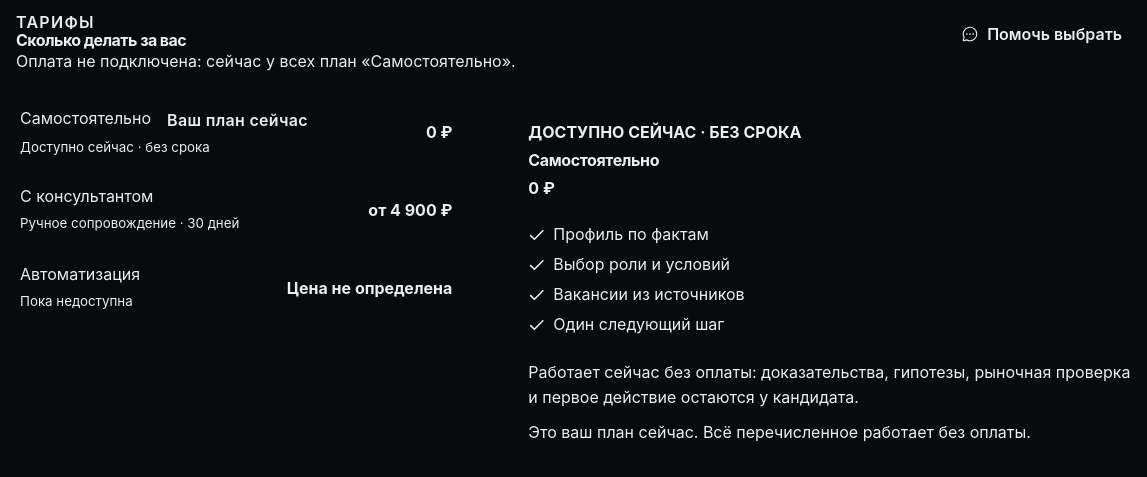
CareerTariffsView · заявка на план с консультантом › says the request did not go through when the server fails
This screenshot has width=1147, height=477.
Click the button "С консультантом от 4 900 ₽ Ручное сопровождение · 30 дней" at (87, 196), box left=16, top=172, right=456, bottom=250
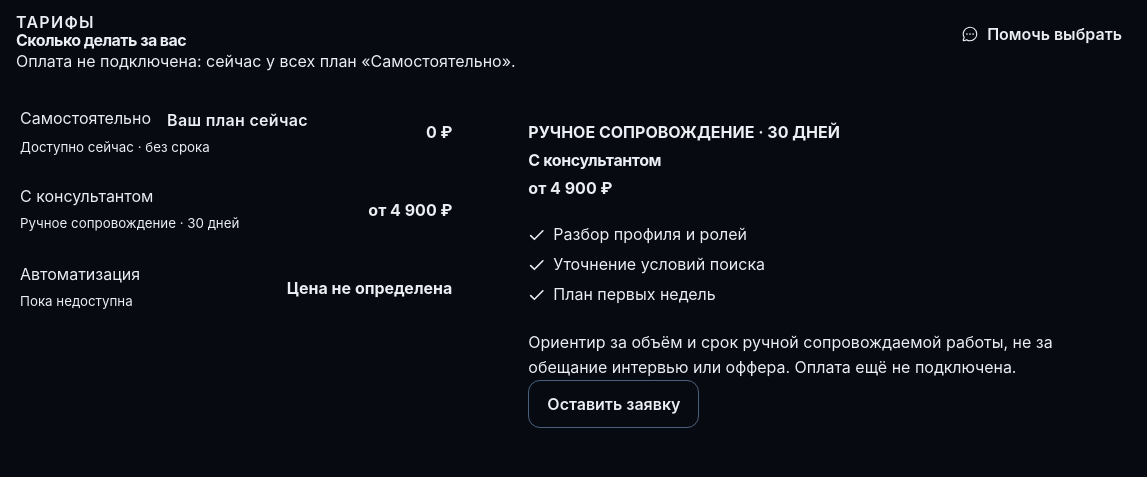
Click the button "Оставить заявку" at (614, 404), box left=528, top=380, right=700, bottom=428
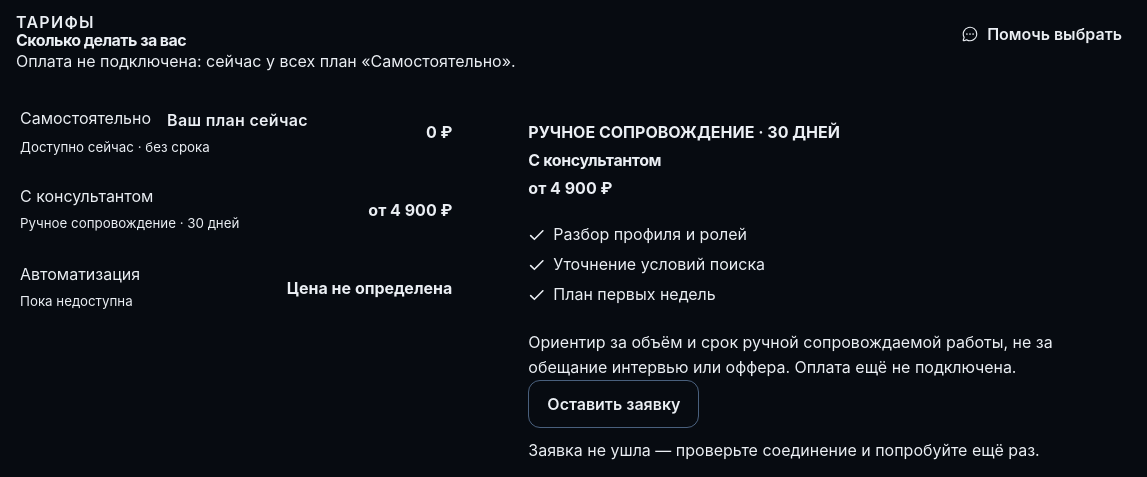
expect the text "Заявка не ушла" is shown: met, box left=528, top=440, right=1040, bottom=460
